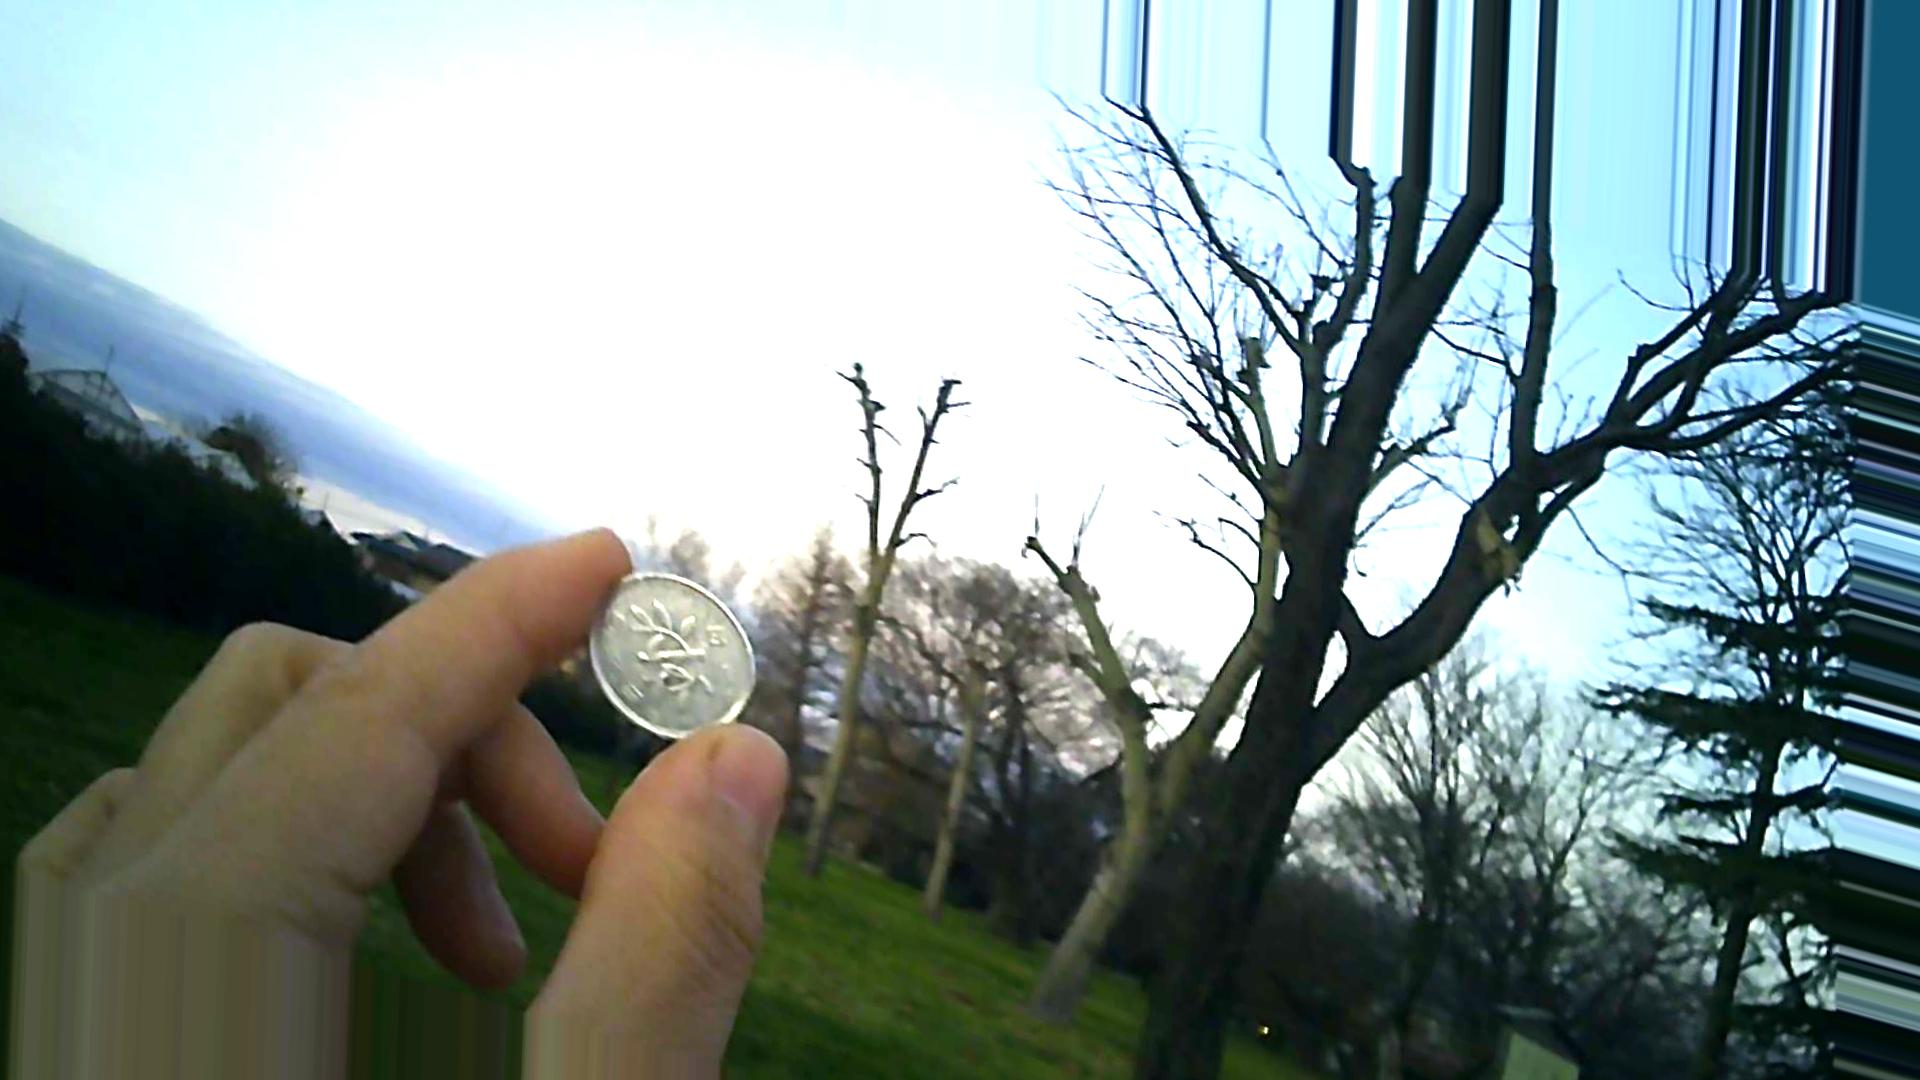1 Yen: (579, 566, 762, 752)
